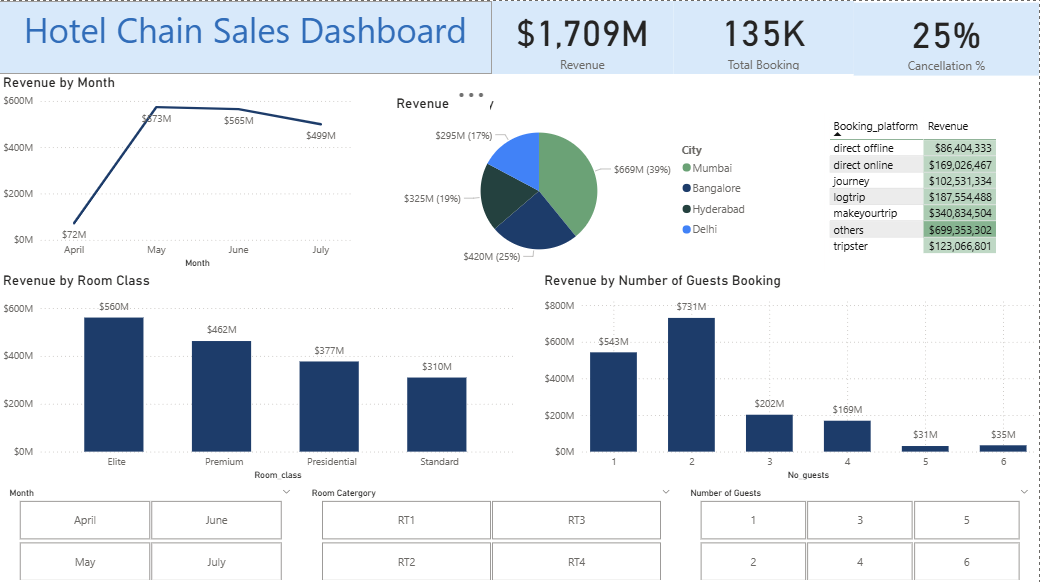

This screenshot's page, from the dashboard's own definition file:
{"tool":"powerbi","page":{"name":"Revenue High-Level View (monthly)","canvas":[1280,720],"ordinal":0},"visuals":[{"type":"lineChart","fields":{"Category":["dim_Date.Start of Month.Variation.Date Hierarchy.Month","dim_Date.Start of Month.Variation.Date Hierarchy.Day"],"Y":["Measures Table.Revenue"]},"box":[0,90,441.7,243.3],"z":0},{"type":"pieChart","fields":{"Y":["Measures Table.Revenue"],"Category":["dim_Hotels.City"]},"box":[483.3,116.7,448.3,216.7],"z":1000},{"type":"card","fields":{"Values":["Measures Table.Revenue"]},"box":[606,0,224,90],"z":2000},{"type":"columnChart","title":"Revenue by Room Class","fields":{"Y":["Measures Table.Revenue"],"Category":["dim_Rooms.Room_class"]},"box":[0,333.3,640,260],"z":3000},{"type":"columnChart","title":"Revenue by Number of Guests Booking","fields":{"Y":["Measures Table.Revenue"],"Category":["Bookings.No_guests"]},"box":[666.7,333.3,613.3,260],"z":4000},{"type":"slicer","fields":{"Values":["dim_Date.Date.Variation.Date Hierarchy.Month"]},"box":[0,593.3,371.7,126.7],"z":5000},{"type":"slicer","fields":{"Values":["dim_Rooms.Room_catergory"]},"box":[371.7,593.3,466.7,126.7],"z":6000},{"type":"slicer","title":"Number of Guests","fields":{"Values":["Bookings.No_guests"]},"box":[838.3,593.3,441.7,126.7],"z":7000},{"type":"tableEx","fields":{"Values":["Bookings.Booking_platform","Measures Table.Revenue"]},"box":[1016.7,138.3,223.3,195],"z":8000},{"type":"card","fields":{"Values":["Measures Table.Total Booking"]},"box":[830,0,222,90],"z":9000},{"type":"card","fields":{"Values":["Measures Table.Cancellation %"]},"box":[1052,2,228,90],"z":10000},{"type":"textbox","box":[0,0,606,90],"z":11000}]}

Visuals, with their boxes in screenshot pixels (x1, y1, x2, y2), scaled from the page's 1280x720 canvas onto the 1040x582 screenshot:
lineChart - dim_Date.Start of Month.Variation.Date Hierarchy.Month x dim_Date.Start of Month.Variation.Date Hierarchy.Day: 0, 73, 359, 269
pieChart - Measures Table.Revenue x dim_Hotels.City: 393, 94, 757, 269
card - Measures Table.Revenue: 492, 0, 674, 73
"Revenue by Room Class" columnChart: 0, 269, 520, 480
"Revenue by Number of Guests Booking" columnChart: 542, 269, 1039, 480
slicer - dim_Date.Date.Variation.Date Hierarchy.Month: 0, 480, 302, 581
slicer - dim_Rooms.Room_catergory: 302, 480, 681, 581
"Number of Guests" slicer: 681, 480, 1039, 581
tableEx - Bookings.Booking_platform x Measures Table.Revenue: 826, 112, 1008, 269
card - Measures Table.Total Booking: 674, 0, 855, 73
card - Measures Table.Cancellation %: 855, 2, 1039, 74
textbox: 0, 0, 492, 73
